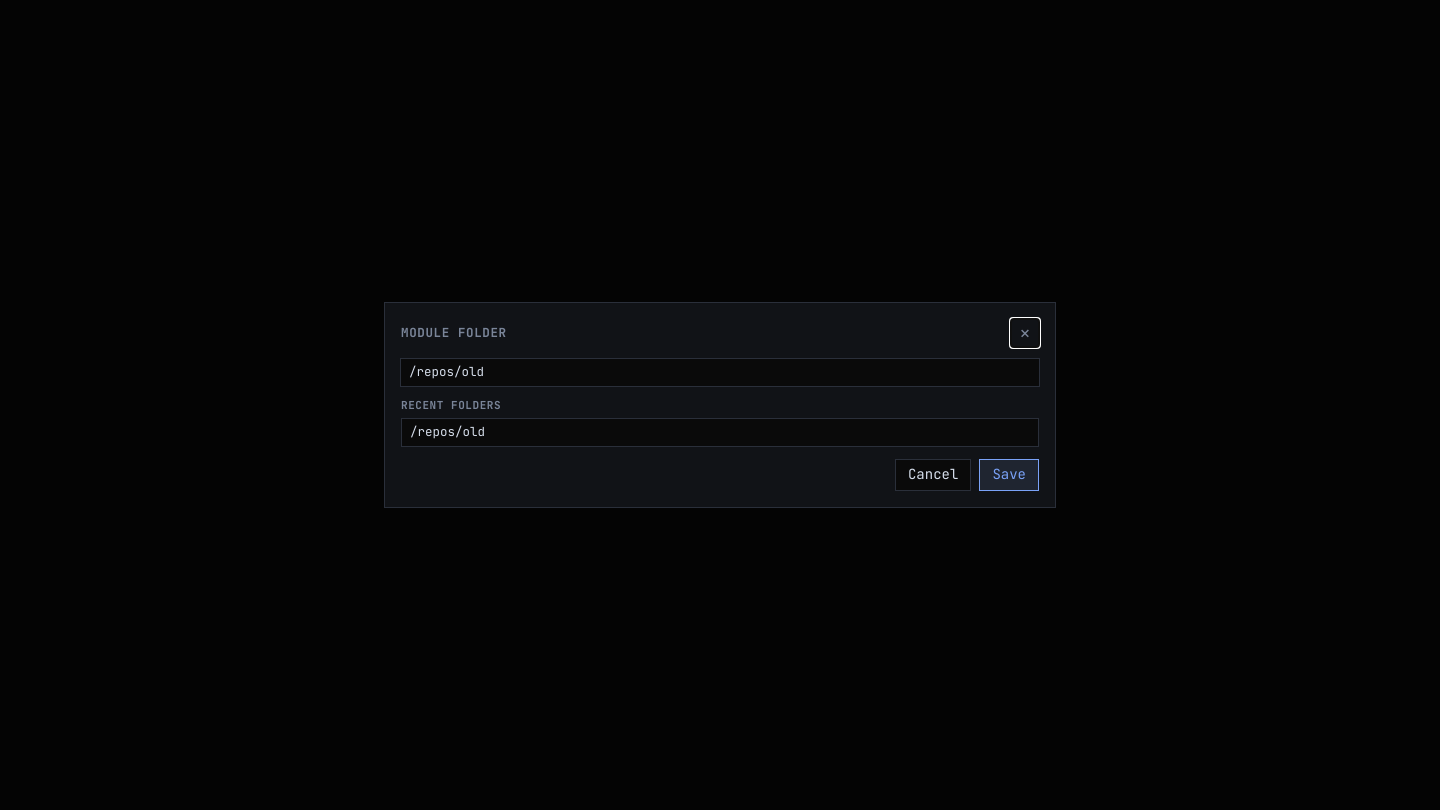
Test: provider directory trust acceptance › [overhaul-358] asks for trust only from the providers the user activated
Replace the text in the field with "/repos/new". click: [720, 373]
box: [401, 359, 1039, 386]
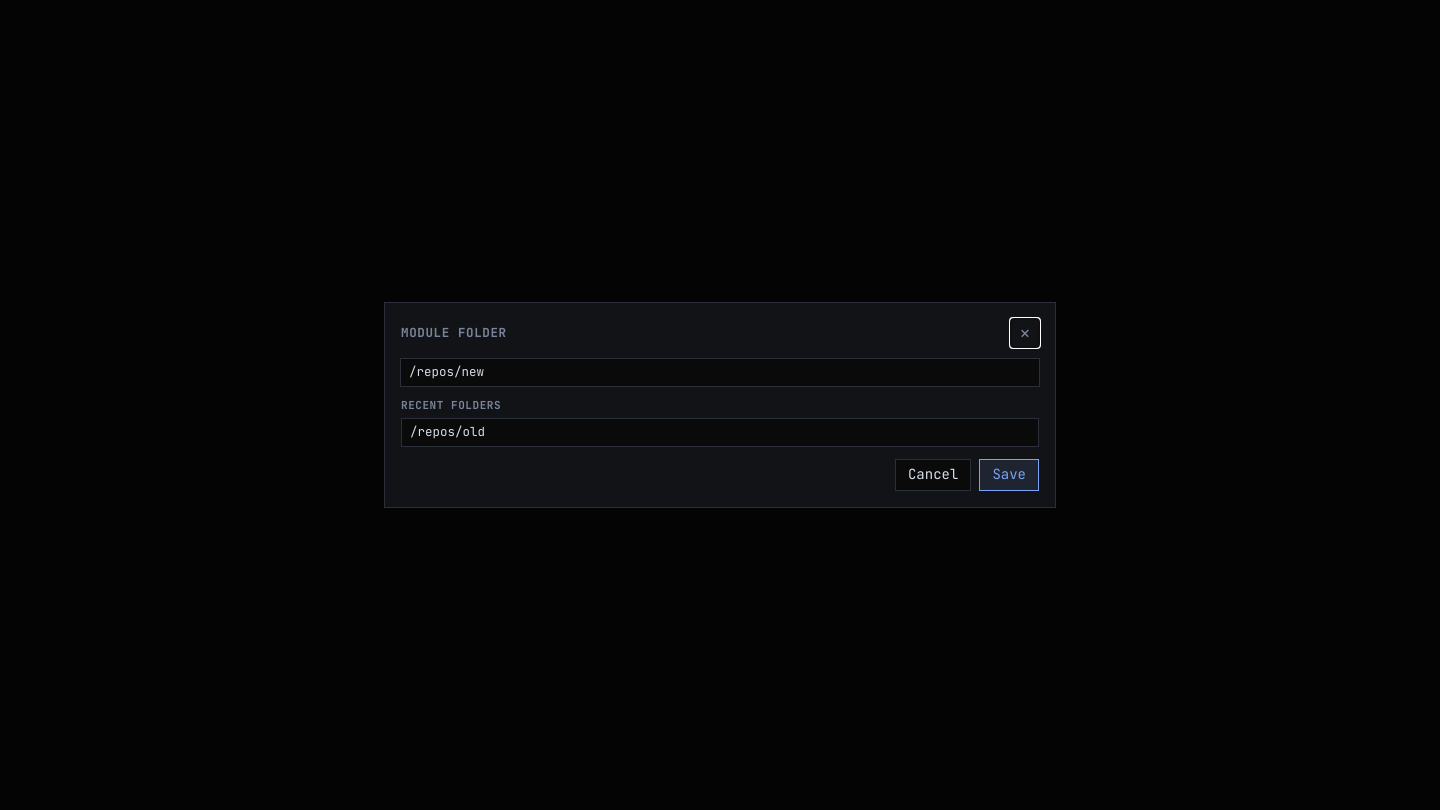
Click the button "Save". click: [1009, 475]
box: [979, 459, 1039, 491]
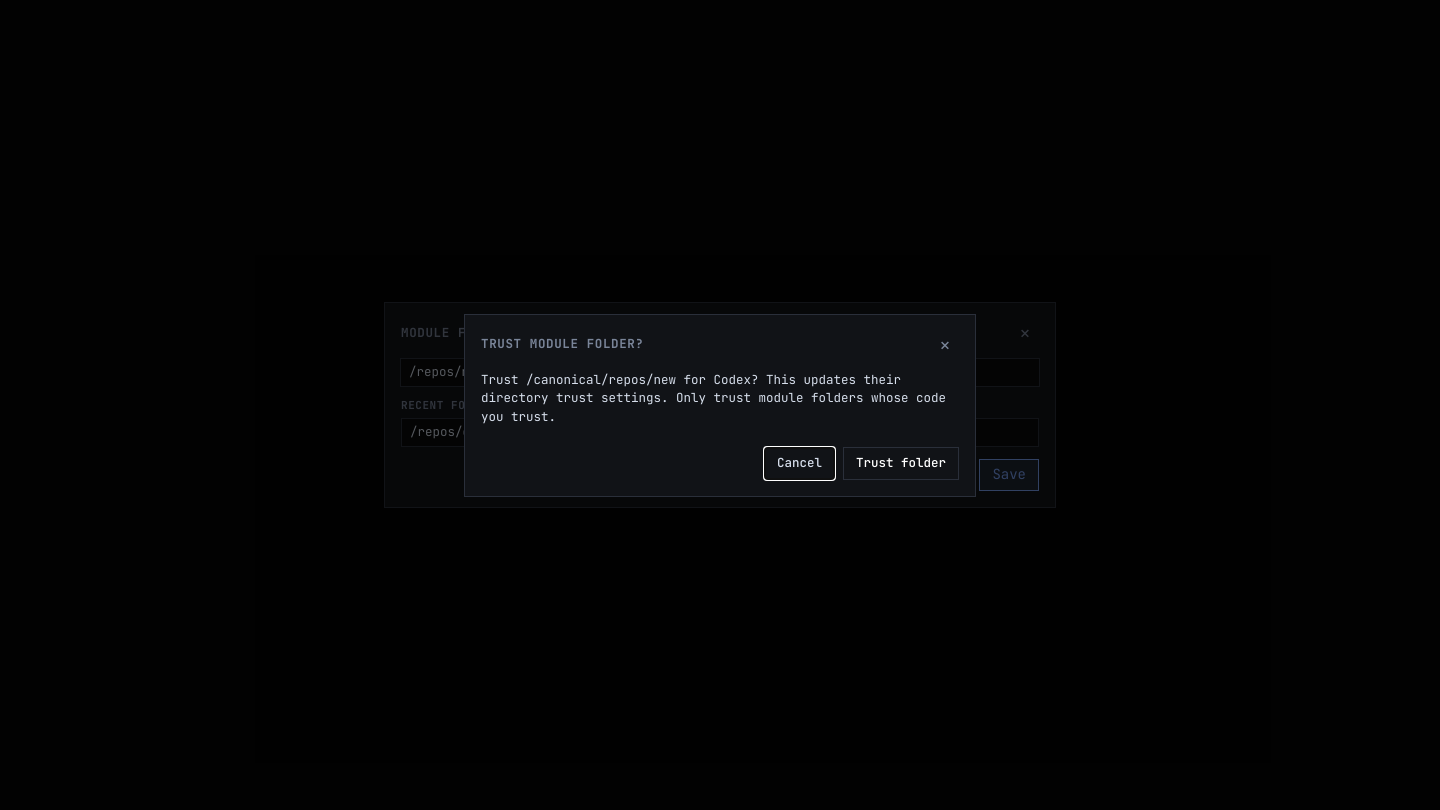
Expected: the dialog "Trust module folder?" does not show "Gemini", [464, 314, 976, 496]
Expected: the dialog "Trust module folder?" shows "Codex", [481, 370, 954, 425]
